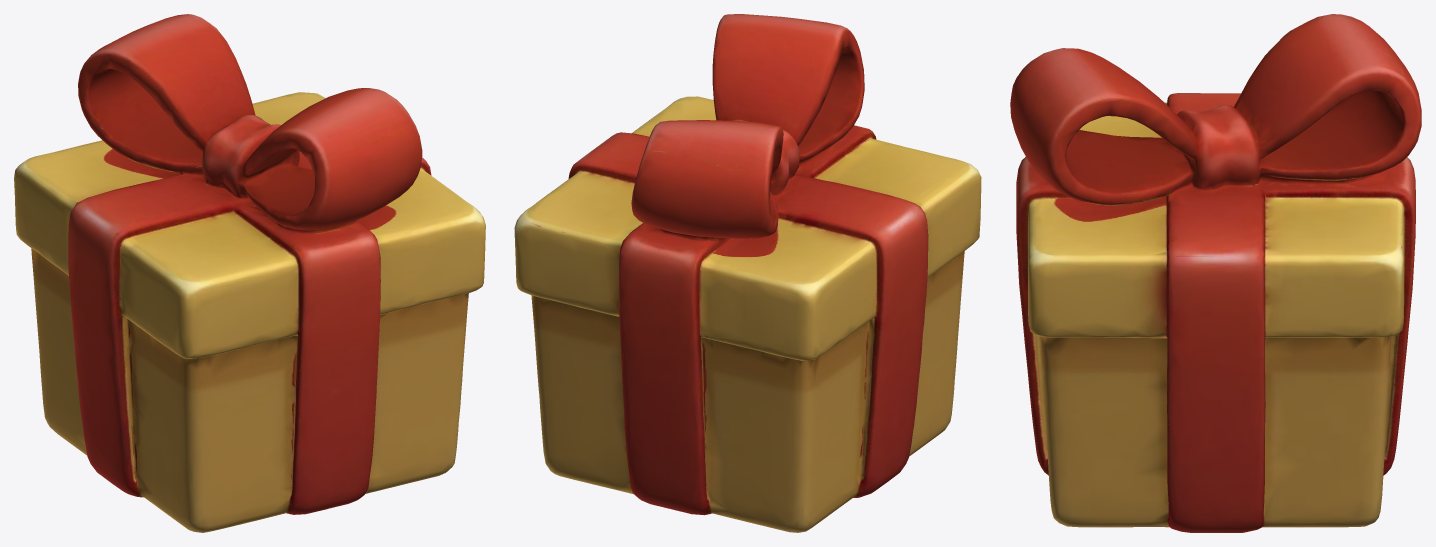
File: gift_v1.glb
The picture shows the model from 3 angles, left to right: view 1: azimuth 30°, elevation 25°; view 2: azimuth 150°, elevation 25°; view 3: azimuth 270°, elevation 25°; orthographic projection. The views are drawn at different scales.
Parts seen in each view (by area): view 1: Mesh1.0; view 2: Mesh1.0; view 3: Mesh1.0.
Part boxes in pixels (box(x1,y1,x2,y2)): Mesh1.0: box(14, 14, 485, 532); Mesh1.0: box(514, 14, 981, 532); Mesh1.0: box(1010, 14, 1421, 532).
Bounding box in the file's own units: 1.76 × 2.01 × 1.81.
1 material, 1 textured.
